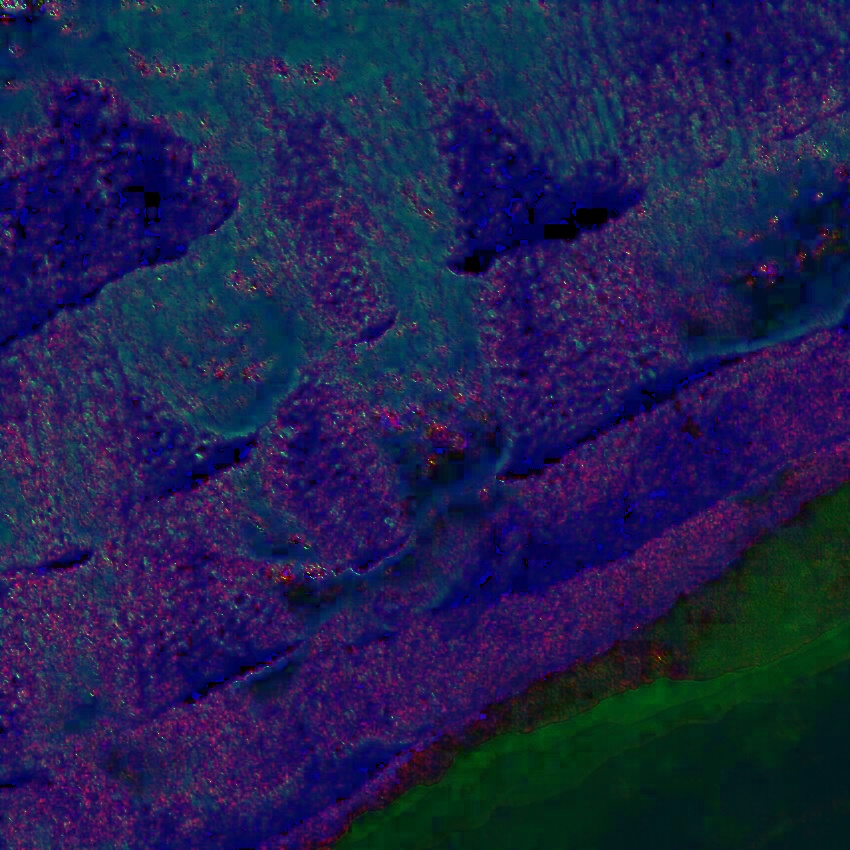rip_current: (312, 127, 569, 561)
